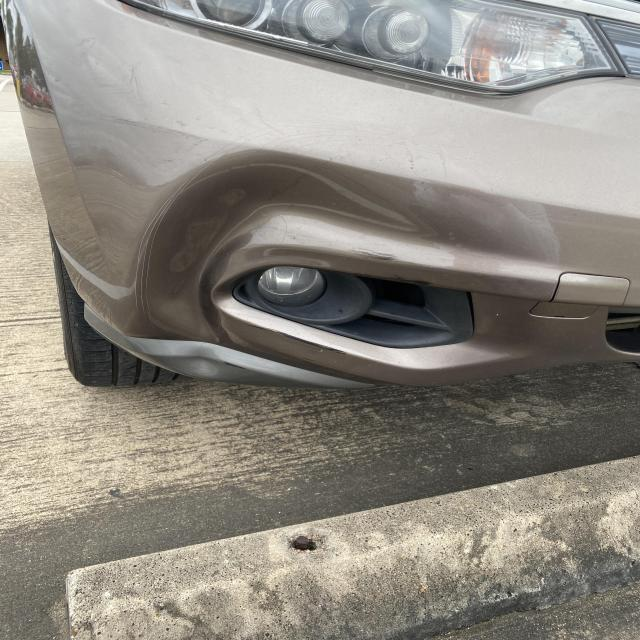dent: (129, 160, 426, 378)
misalignment: (466, 291, 476, 333)
scratch: (247, 322, 350, 357), (349, 247, 439, 268), (351, 271, 435, 286), (215, 358, 247, 371), (300, 357, 317, 361)
